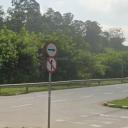NoSeguir: (45, 58, 57, 72)
